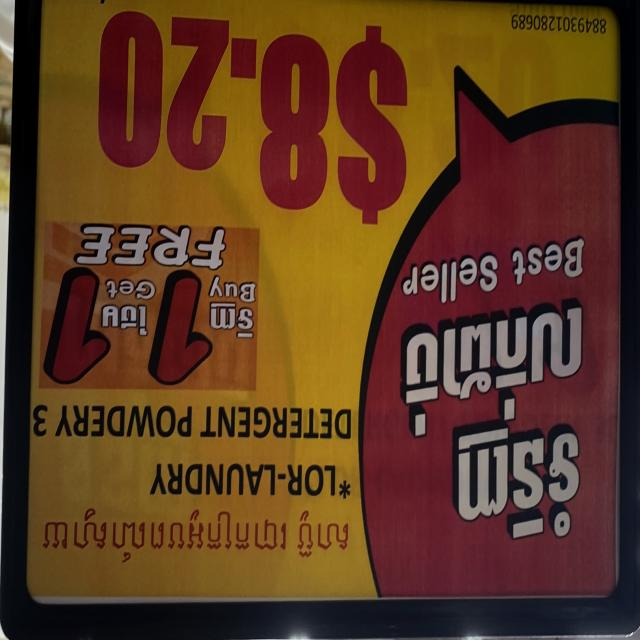1: (38, 504, 358, 566)
176: (82, 1, 416, 233)
503: (134, 257, 213, 394), (37, 266, 116, 387)
702: (24, 398, 51, 439)
865: (509, 6, 610, 42)
Yolov11kh: (387, 271, 593, 455), (447, 412, 583, 547), (209, 298, 257, 344), (98, 301, 148, 344)
